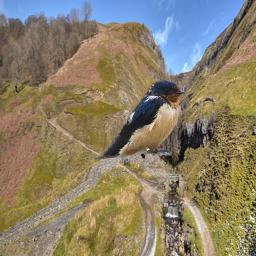Swallow: (94, 79, 187, 161)
